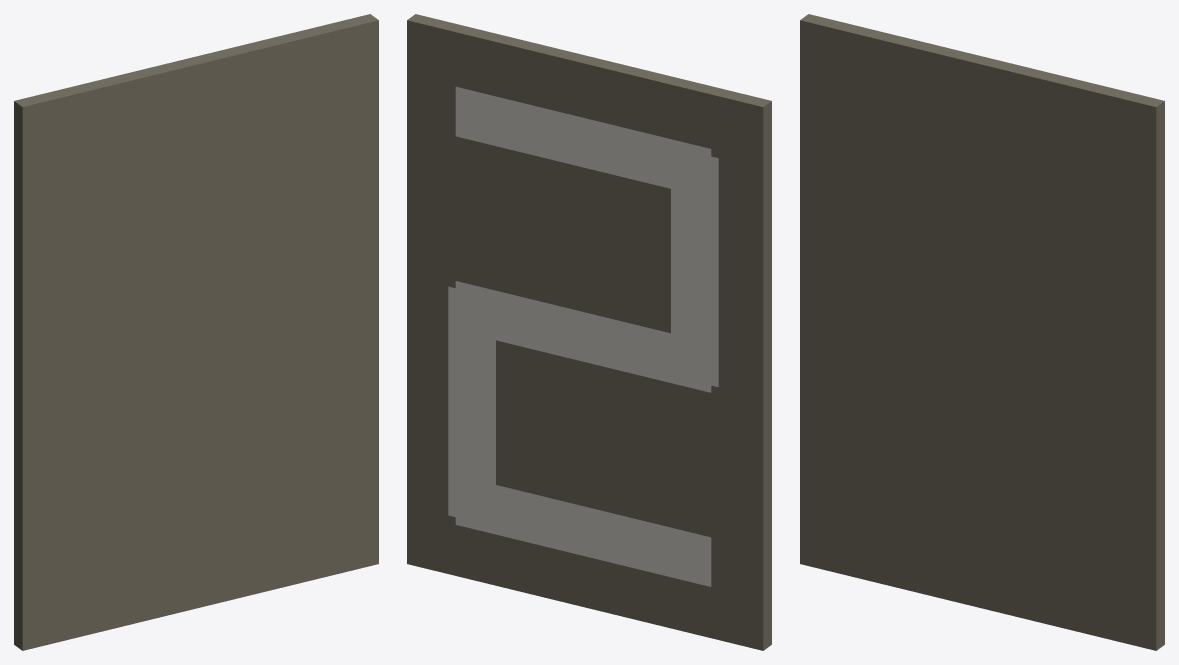
File: stair_digit_2.glb
The picture shows the model from 3 angles, left to right: view 1: azimuth 30°, elevation 25°; view 2: azimuth 150°, elevation 25°; view 3: azimuth 330°, elevation 25°; orthographic projection.
Parts seen in each view (by area): view 1: stair_digit_2; view 2: stair_digit_2; view 3: stair_digit_2.
Part boxes in pixels (x1,y1,x2,y2): stair_digit_2: (14, 14, 378, 650); stair_digit_2: (407, 14, 771, 650); stair_digit_2: (800, 14, 1164, 650).
Bounding box in the file's own units: 0.24 × 0.35 × 0.012.
Materials: 2 (2 with a texture image).
